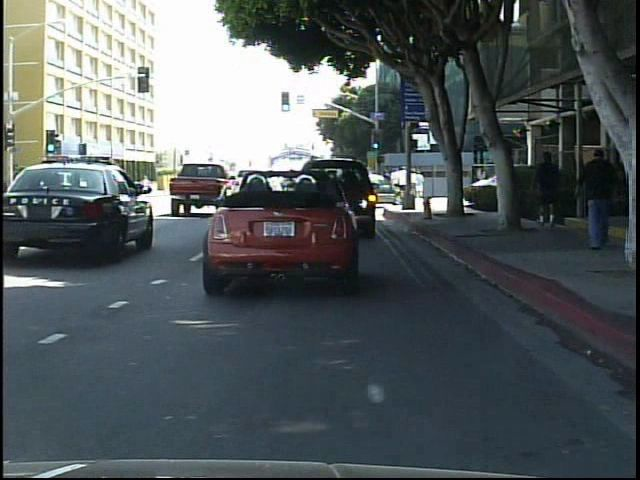person: (577, 141, 627, 260), (528, 146, 570, 236), (144, 174, 150, 198)
